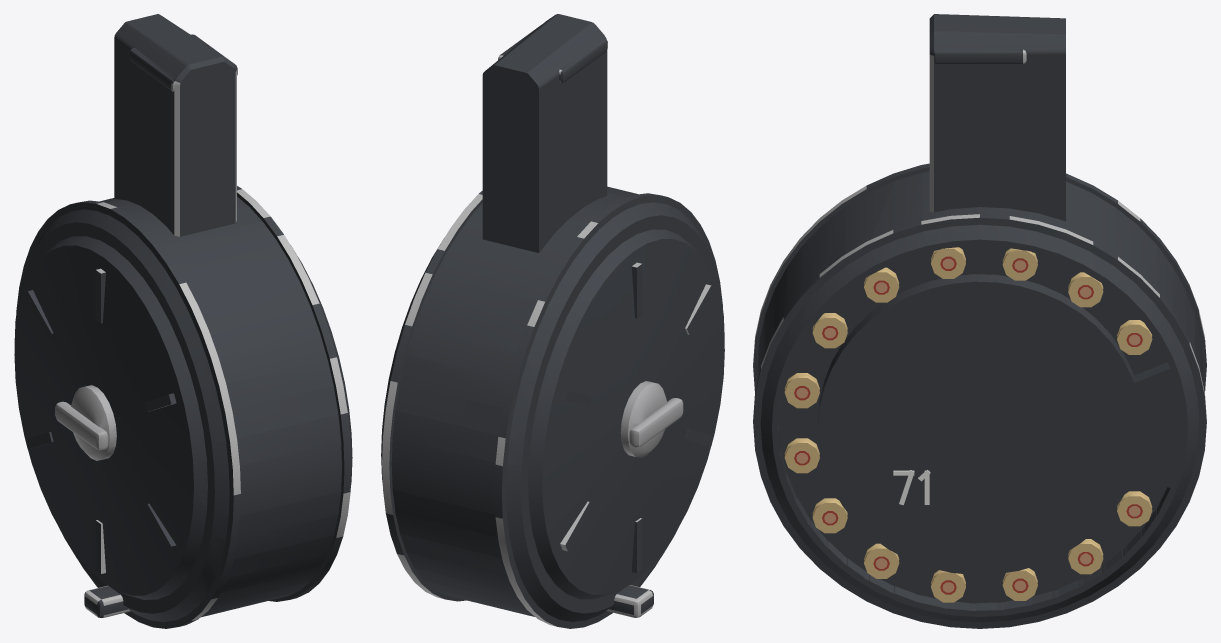
The model's file is ppsh_drum.glb.
3 views of the same model, side by side, from view 1: azimuth 30°, elevation 25°; view 2: azimuth 150°, elevation 25°; view 3: azimuth 270°, elevation 25° (orthographic). The views are drawn at different scales.
Visible parts, largest first — view 1: static_mag; view 2: static_mag; view 3: static_mag, round_36, round_41, round_5, round_30, round_46, round_71, round_10, round_66, round_25, round_51, round_61 (+3 smaller).
Part boxes in pixels (x1,y1,x2,y2): static_mag: (14,14,352,628); static_mag: (381,14,724,628); static_mag: (753,14,1206,628); round_36: (784,438,819,473); round_41: (784,373,819,408); round_5: (1117,491,1152,526); round_30: (812,498,847,533); round_46: (812,313,847,348); round_71: (1117,320,1152,354); round_10: (1068,539,1103,574); round_66: (1068,272,1103,307); round_25: (864,543,899,578); round_51: (864,267,899,302); round_61: (1002,248,1037,280).
Bounding box in the file's own units: 0.0597 × 0.1772 × 0.1264.
